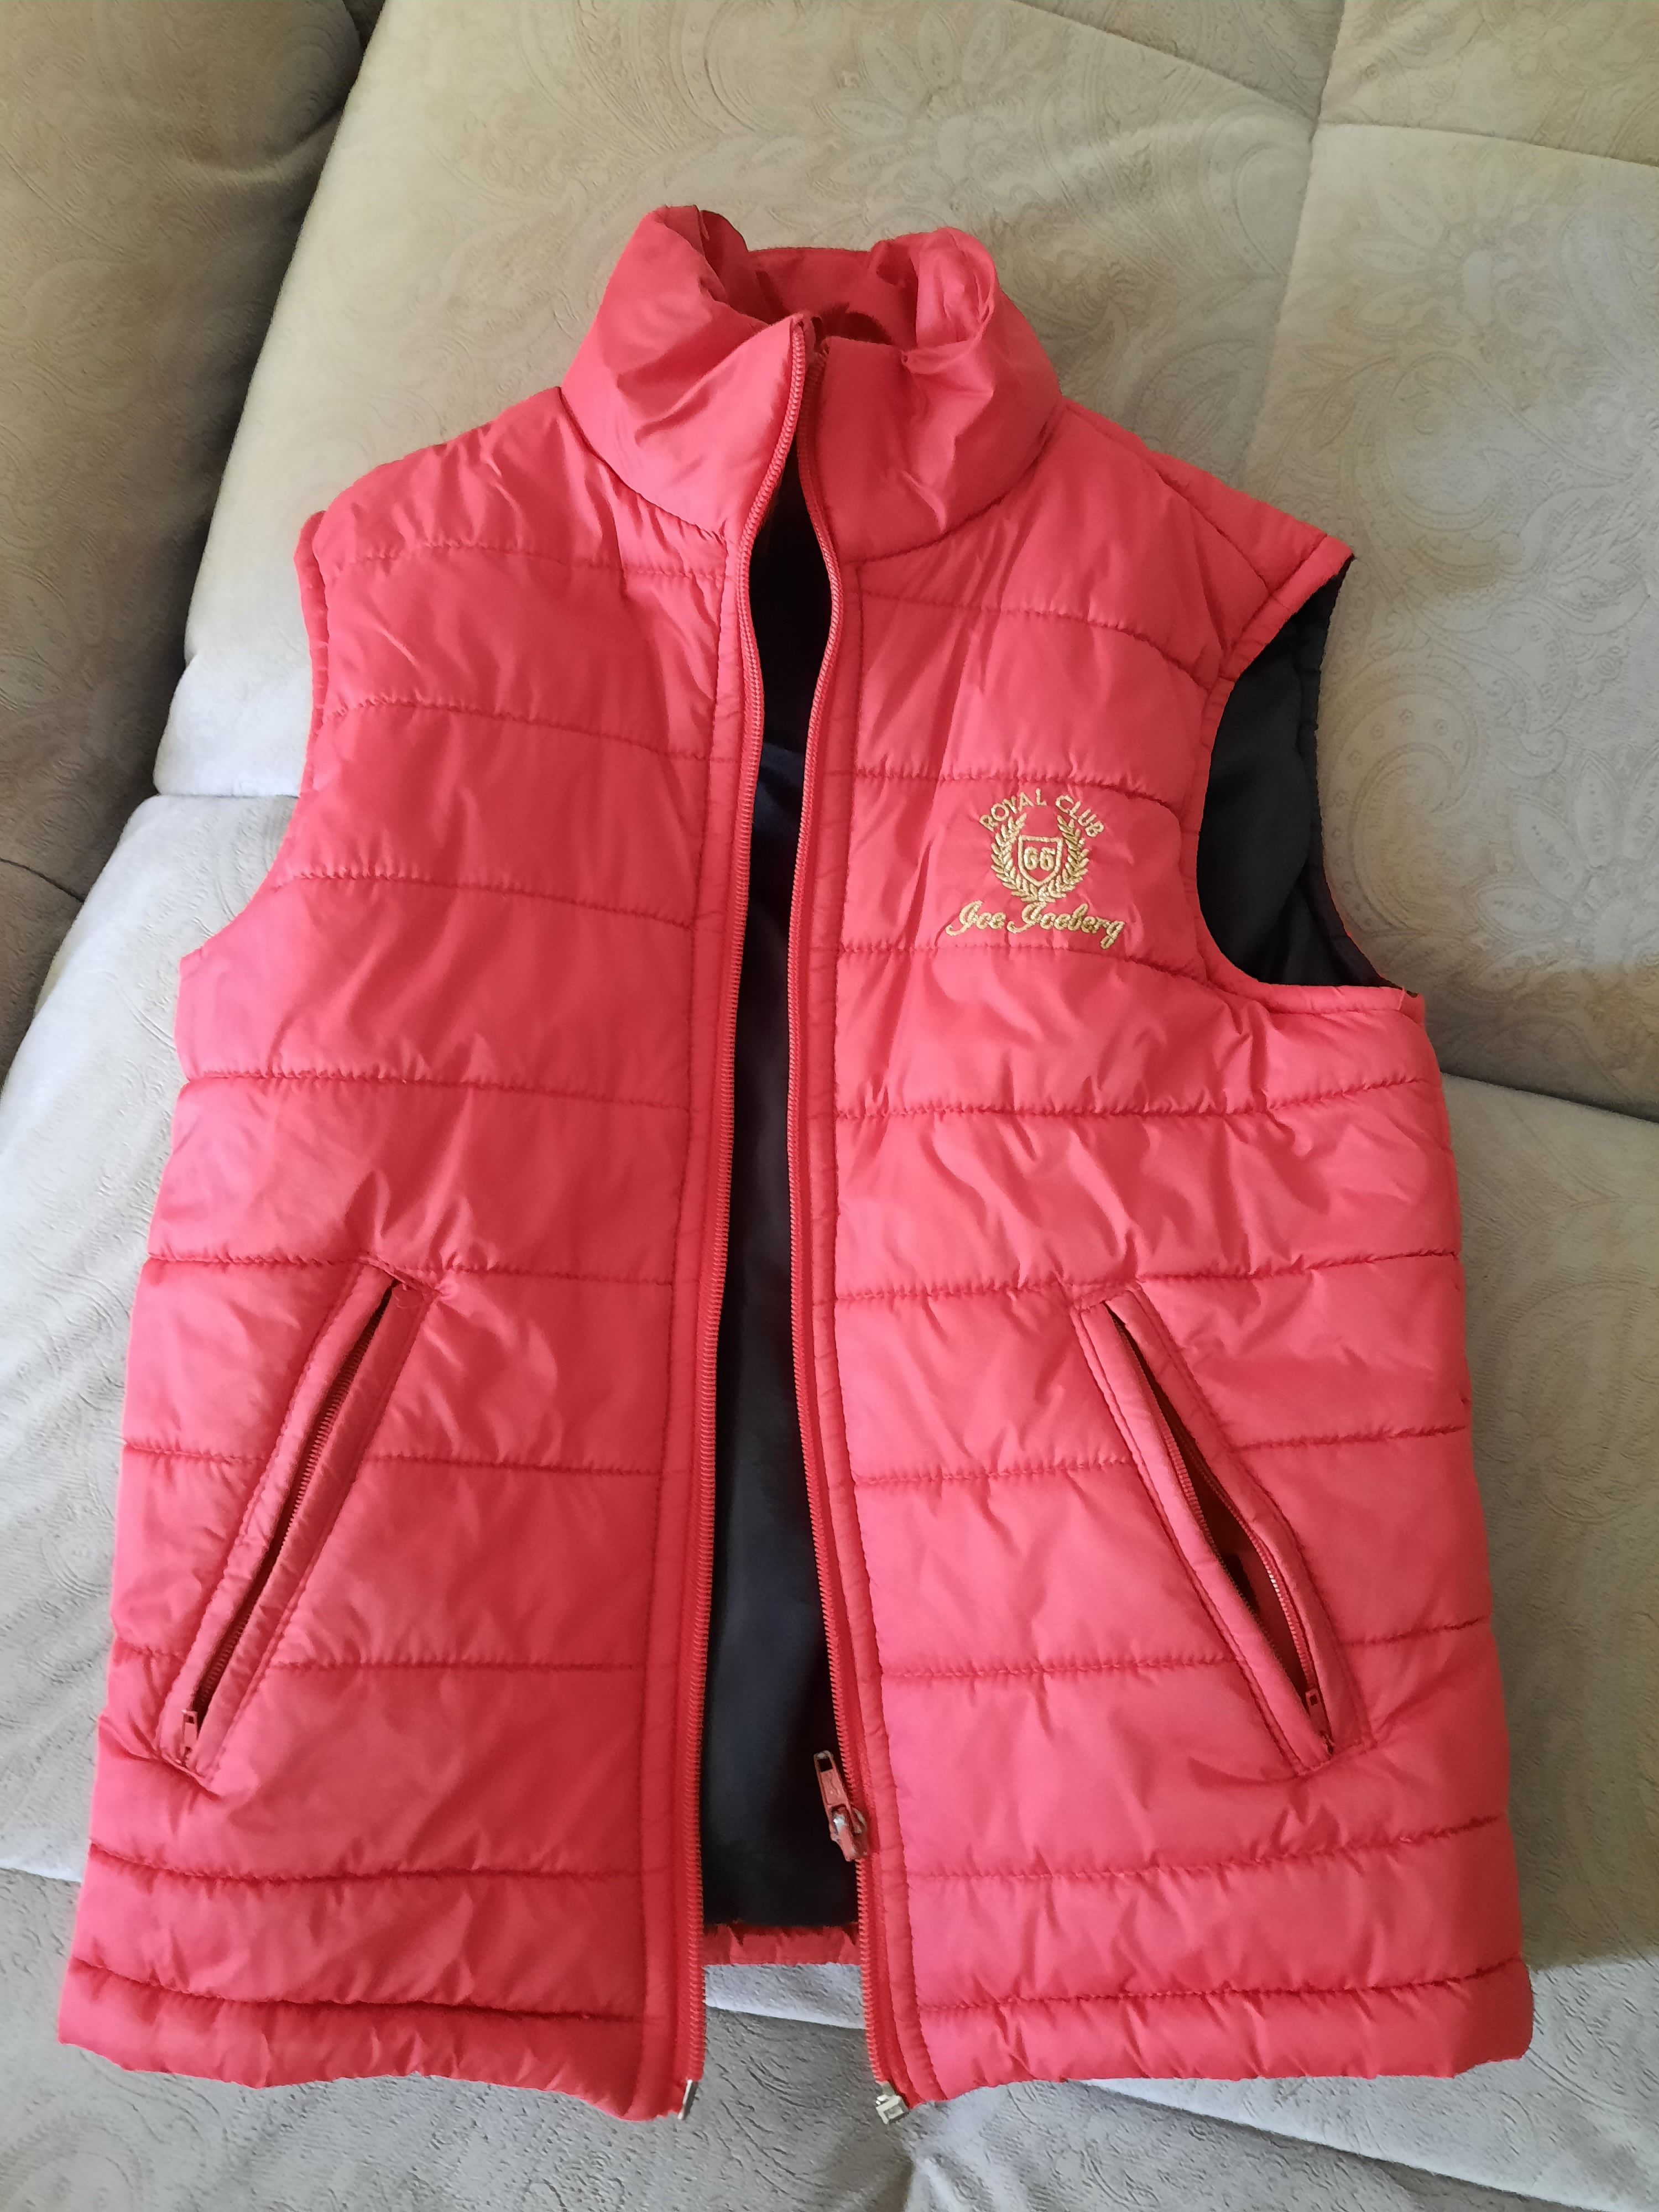clothes: (54, 193, 1523, 2069)
